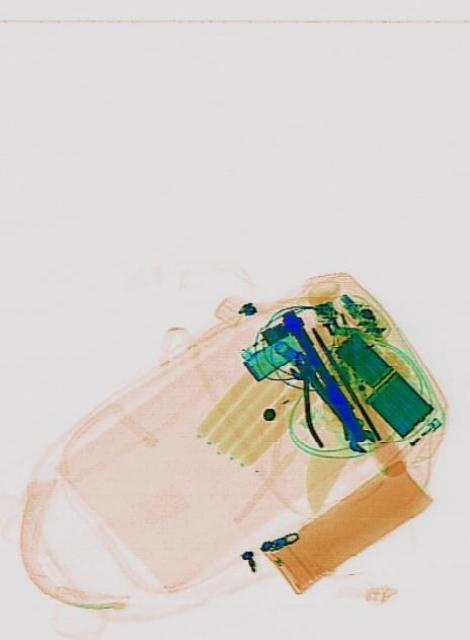Pliers: (280, 342, 348, 452)
Wrench: (275, 303, 376, 462)
